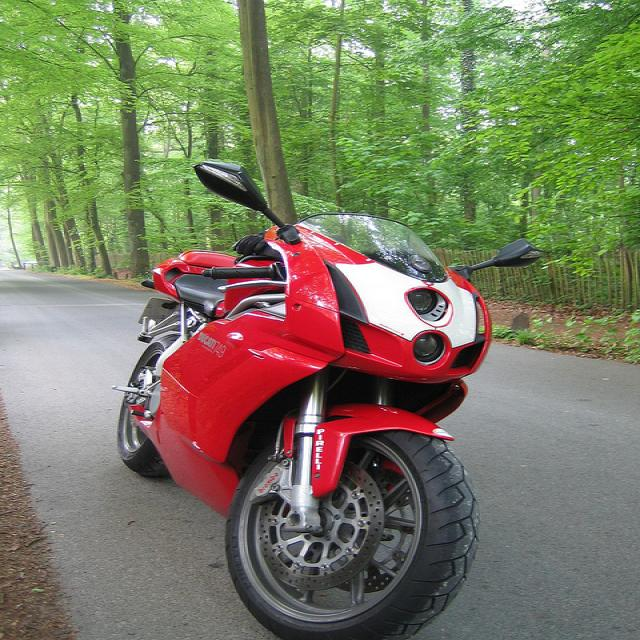motor: (107, 165, 556, 630)
